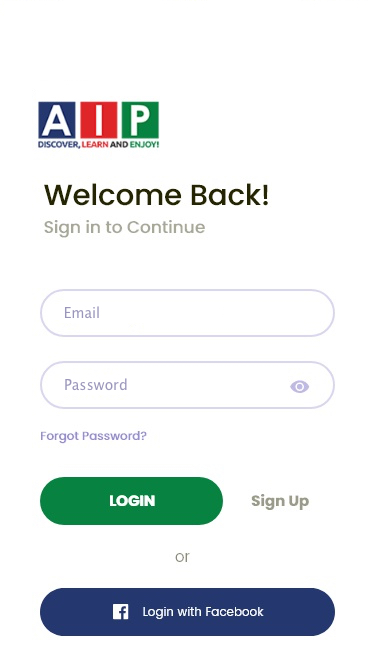EditText: (40, 361, 335, 410), (41, 289, 335, 338)
Icon: (290, 380, 310, 394)
Image: (38, 102, 160, 150)
Text: (44, 183, 269, 207), (44, 220, 206, 239), (41, 430, 148, 444), (251, 494, 310, 511), (65, 378, 128, 392), (65, 306, 100, 320), (176, 552, 191, 563)
TextButton: (40, 587, 335, 636), (41, 477, 224, 525)
